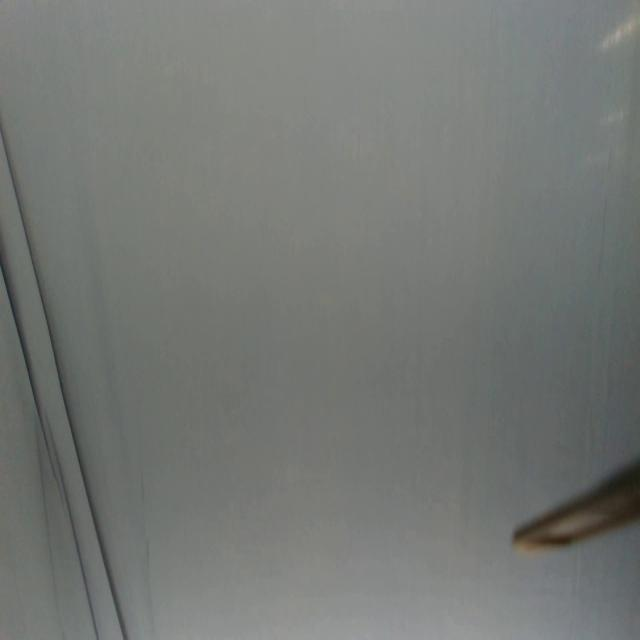crease: (0, 124, 124, 639), (35, 426, 58, 617)
